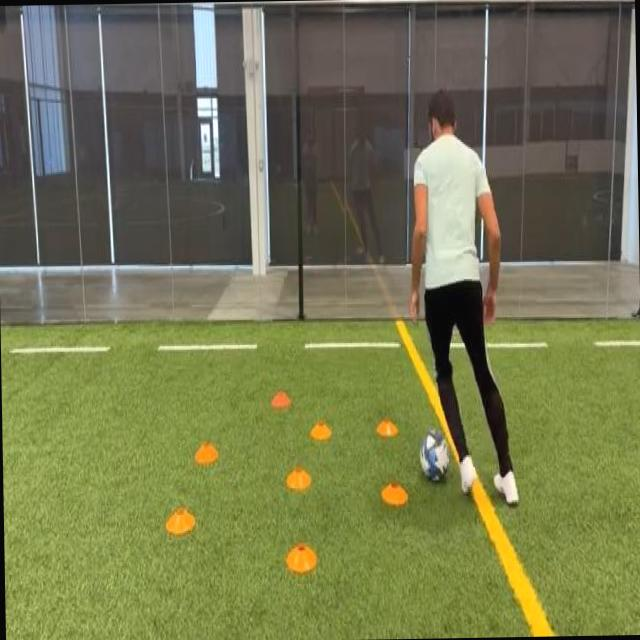Soccer Ball: (417, 424, 452, 484)
